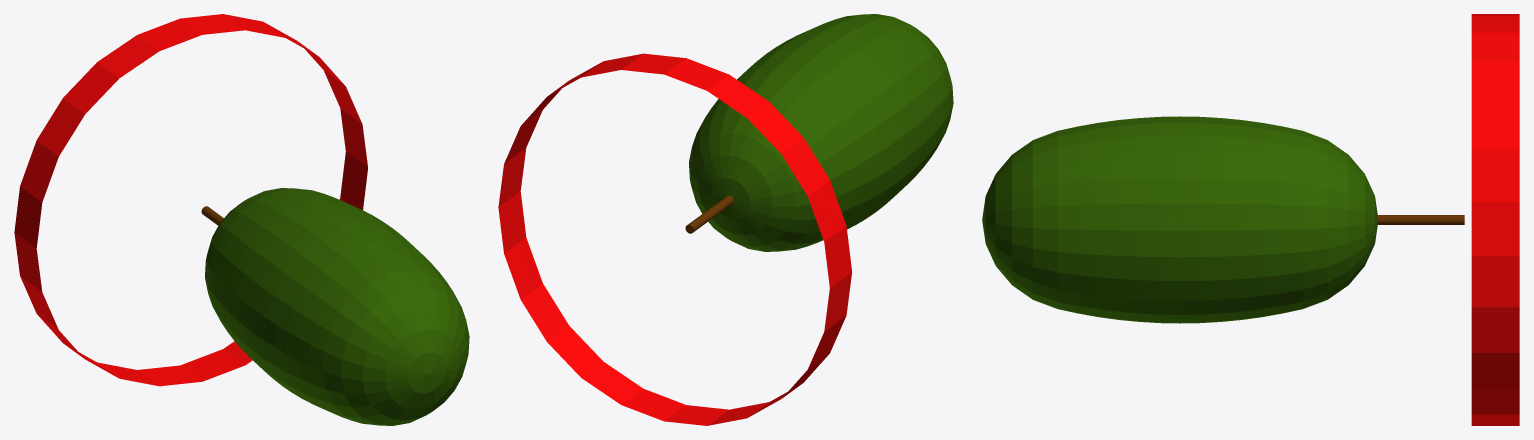
File: LPo7m.obj
3 renders of one model, left to right at view 1: azimuth 30°, elevation 25°; view 2: azimuth 150°, elevation 25°; view 3: azimuth 270°, elevation 25°, orthographic. The views are drawn at different scales.
Bounding box in the file's own units: 6 × 6 × 7.8.
